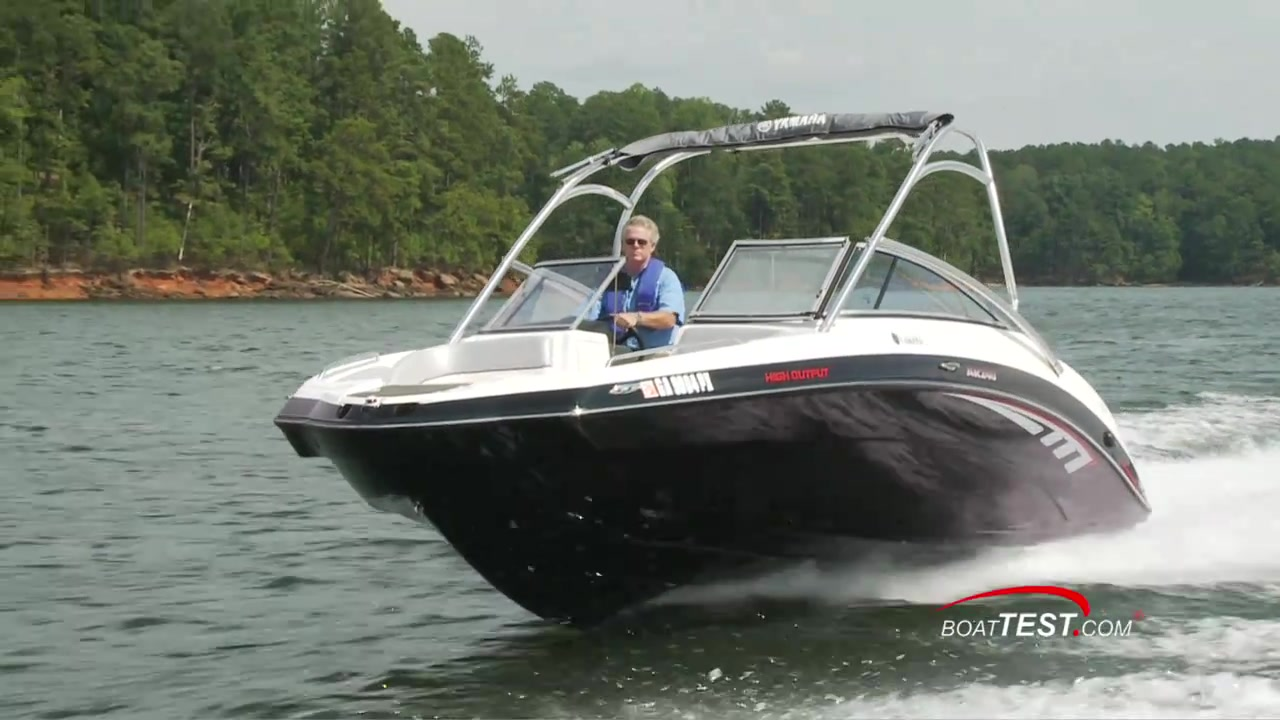boat: (269, 100, 1152, 631)
